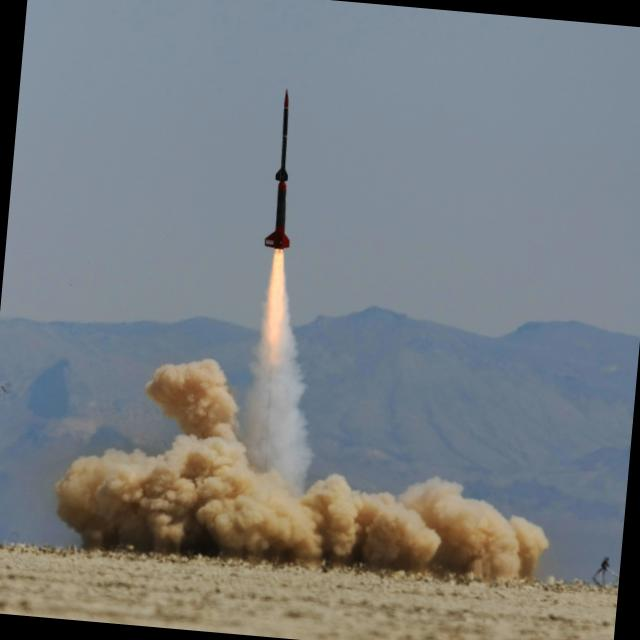rocket: (253, 84, 315, 391)
